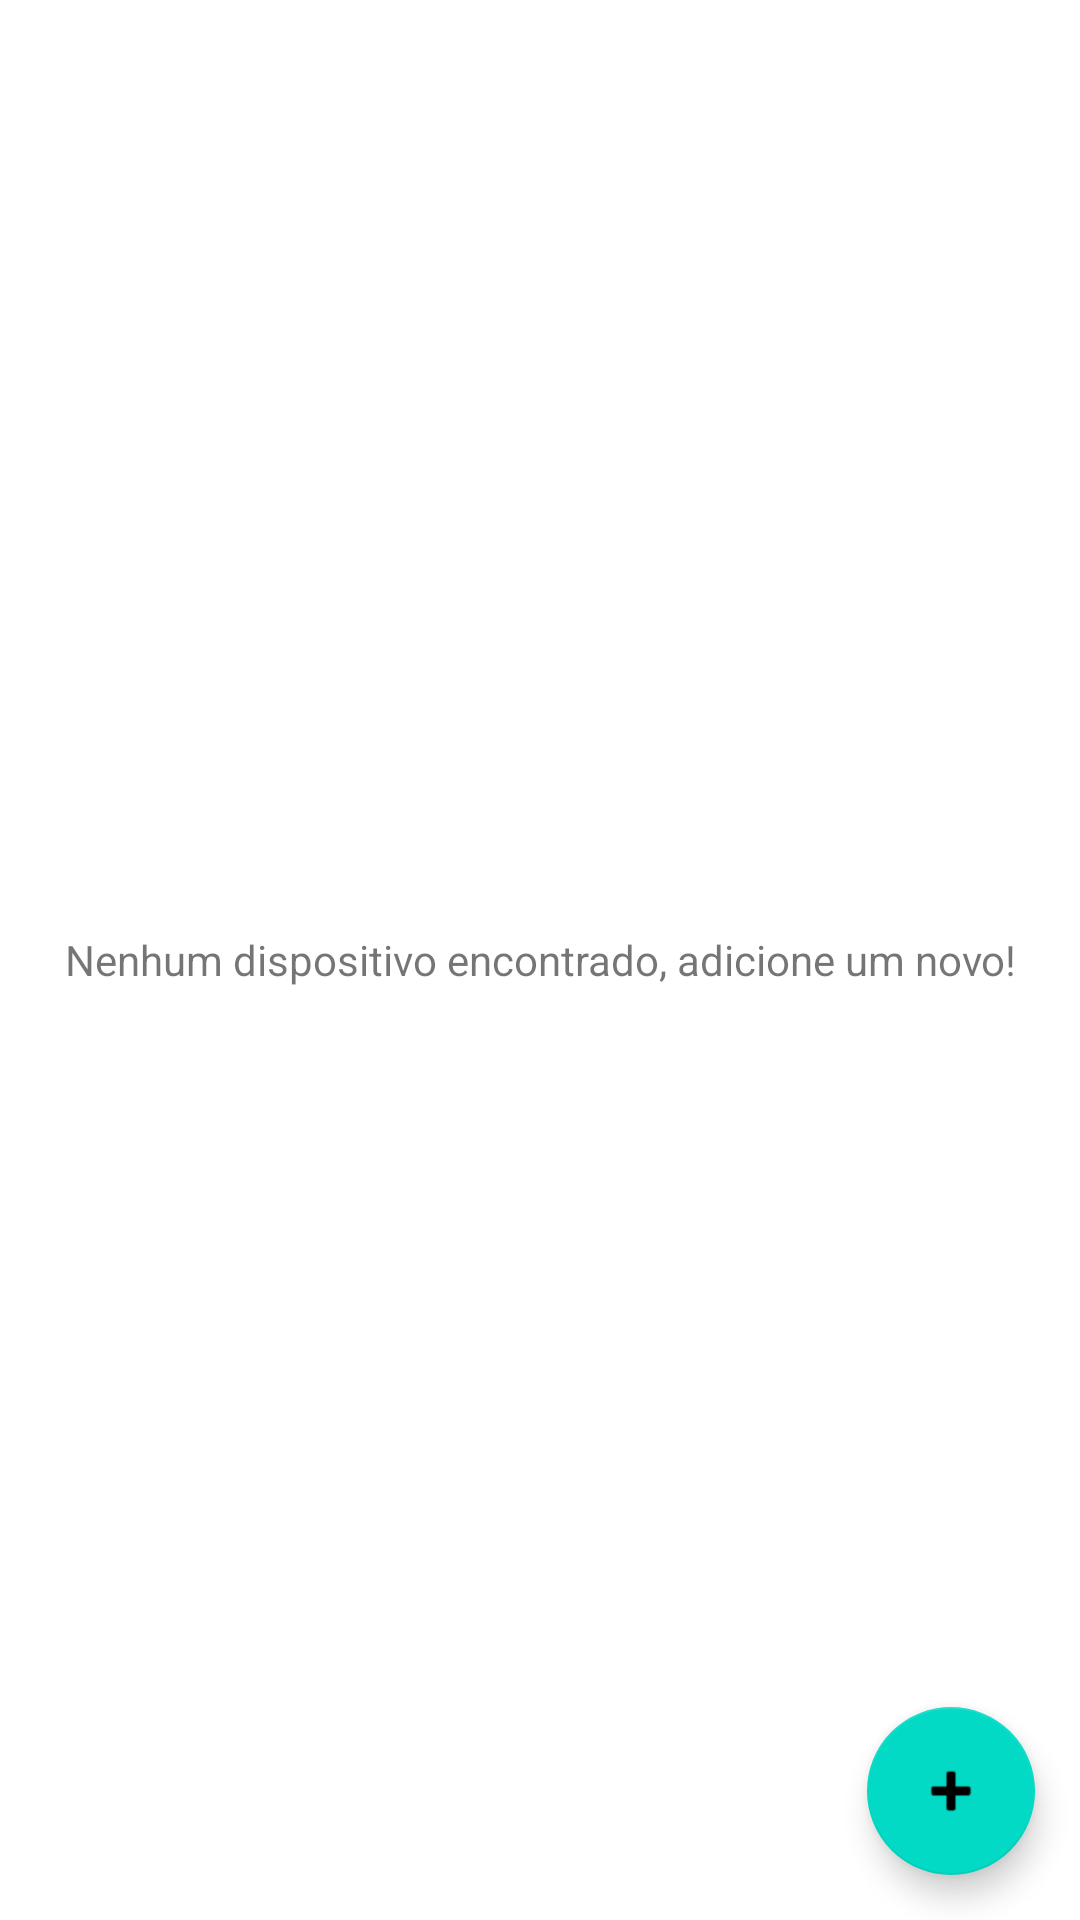

Locate icon controls on the screen. Image size 1080 x 1920, boxes as [x1=x1, y1=y1, x2=x2, y2=y2].
add: [x1=867, y1=1707, x2=1035, y2=1875]
